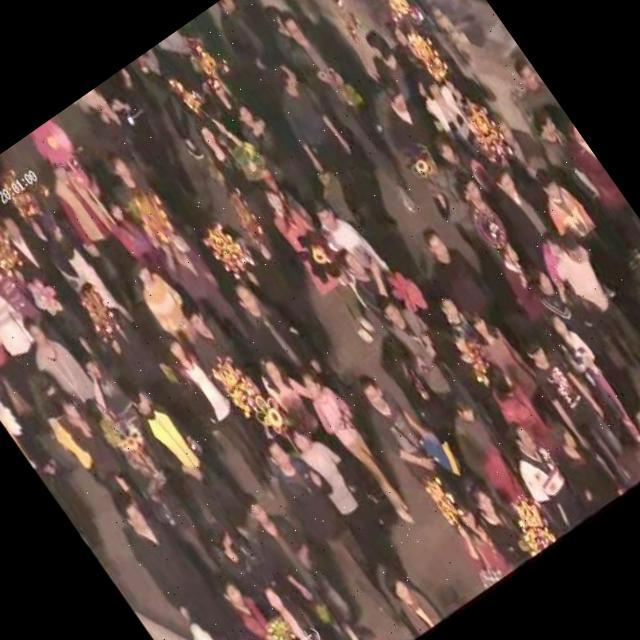person: (268, 0, 438, 222), (252, 426, 410, 630), (254, 50, 411, 248), (119, 373, 271, 562), (148, 316, 294, 504), (246, 172, 390, 358), (286, 352, 428, 537), (506, 317, 640, 500), (531, 217, 640, 439), (229, 480, 379, 640), (278, 407, 413, 577), (110, 486, 255, 640), (526, 261, 640, 449), (524, 154, 640, 337), (134, 197, 265, 357), (6, 173, 135, 335), (526, 98, 640, 281), (90, 68, 212, 214), (535, 299, 640, 465), (0, 203, 108, 360), (31, 146, 148, 284), (432, 389, 544, 526), (489, 407, 602, 539), (188, 119, 296, 257), (372, 280, 480, 416), (348, 362, 458, 494), (222, 93, 332, 222), (543, 308, 640, 452), (402, 206, 510, 334), (0, 288, 66, 481), (228, 267, 330, 390), (170, 294, 270, 413), (5, 306, 106, 422), (458, 298, 554, 412), (129, 46, 223, 162), (471, 358, 566, 469), (205, 567, 329, 640), (114, 242, 202, 344), (197, 506, 284, 604), (41, 393, 125, 491), (461, 477, 544, 575), (250, 345, 332, 444), (437, 492, 519, 590), (545, 415, 624, 513), (370, 76, 450, 170), (251, 569, 356, 640), (480, 158, 558, 250), (410, 60, 486, 152), (447, 163, 524, 252), (474, 99, 553, 184), (480, 234, 554, 322), (72, 347, 142, 430), (376, 560, 448, 640), (94, 140, 164, 218), (206, 0, 280, 69), (0, 276, 39, 406), (350, 22, 418, 94), (504, 61, 567, 132), (0, 267, 44, 368), (0, 239, 46, 326), (340, 618, 398, 640)
